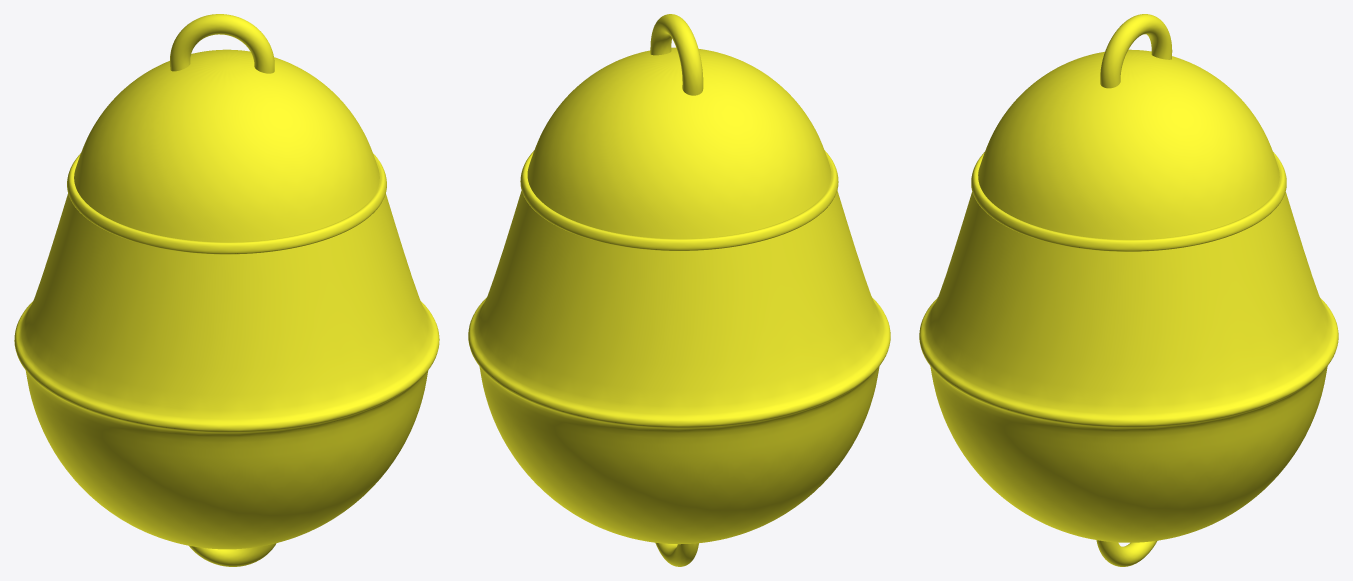
File: buoy.glb
3 renders of one model, left to right at view 1: azimuth 30°, elevation 25°; view 2: azimuth 150°, elevation 25°; view 3: azimuth 270°, elevation 25°, orthographic.
Parts seen in each view (by area): view 1: Torus.001; view 2: Torus.001; view 3: Torus.001.
Part boxes in pixels (x1=…): Torus.001: x1=14, y1=14, x2=439, y2=566; Torus.001: x1=468, y1=14, x2=890, y2=566; Torus.001: x1=919, y1=14, x2=1338, y2=566.
Size of the model in its own units: 7.64 by 10.92 by 7.64.
